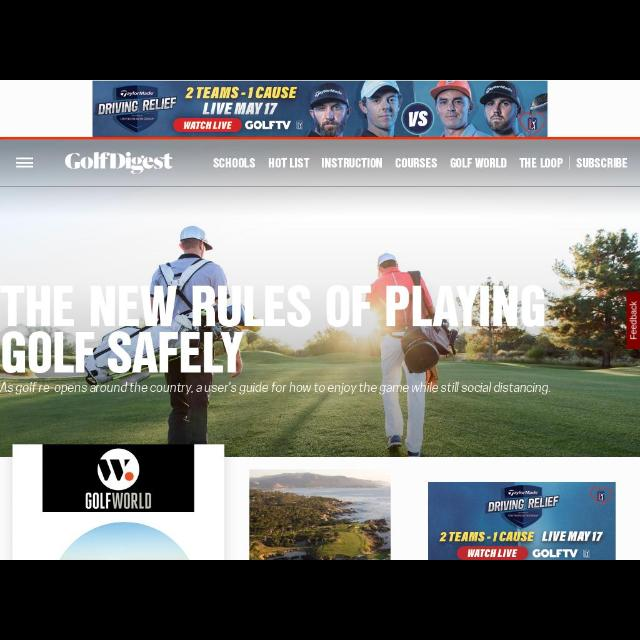backgroundimage: (1, 139, 639, 457)
icon: (15, 155, 33, 169)
iframe: (93, 81, 547, 137), (428, 481, 614, 559)
image: (250, 471, 392, 559), (42, 446, 194, 512), (64, 152, 174, 174)
text: (1, 286, 544, 372), (1, 380, 551, 396), (321, 157, 383, 169), (576, 156, 626, 170), (212, 156, 254, 170), (450, 158, 506, 168), (518, 157, 564, 169), (268, 158, 310, 170), (394, 158, 438, 168), (629, 300, 639, 340)
toolbar: (1, 140, 639, 186)
